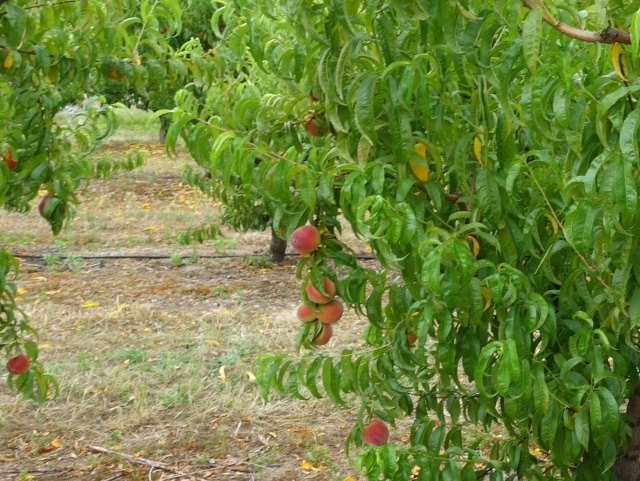peach: (286, 221, 322, 260), (302, 276, 338, 309), (358, 417, 391, 450), (34, 191, 68, 223), (314, 294, 345, 326), (309, 317, 335, 349), (303, 110, 330, 139), (3, 353, 30, 379), (293, 301, 317, 324)
